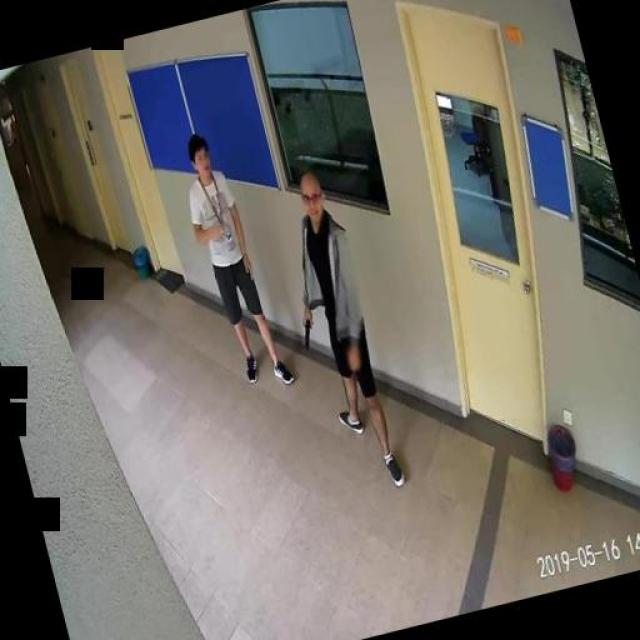gun: (295, 308, 317, 348)
